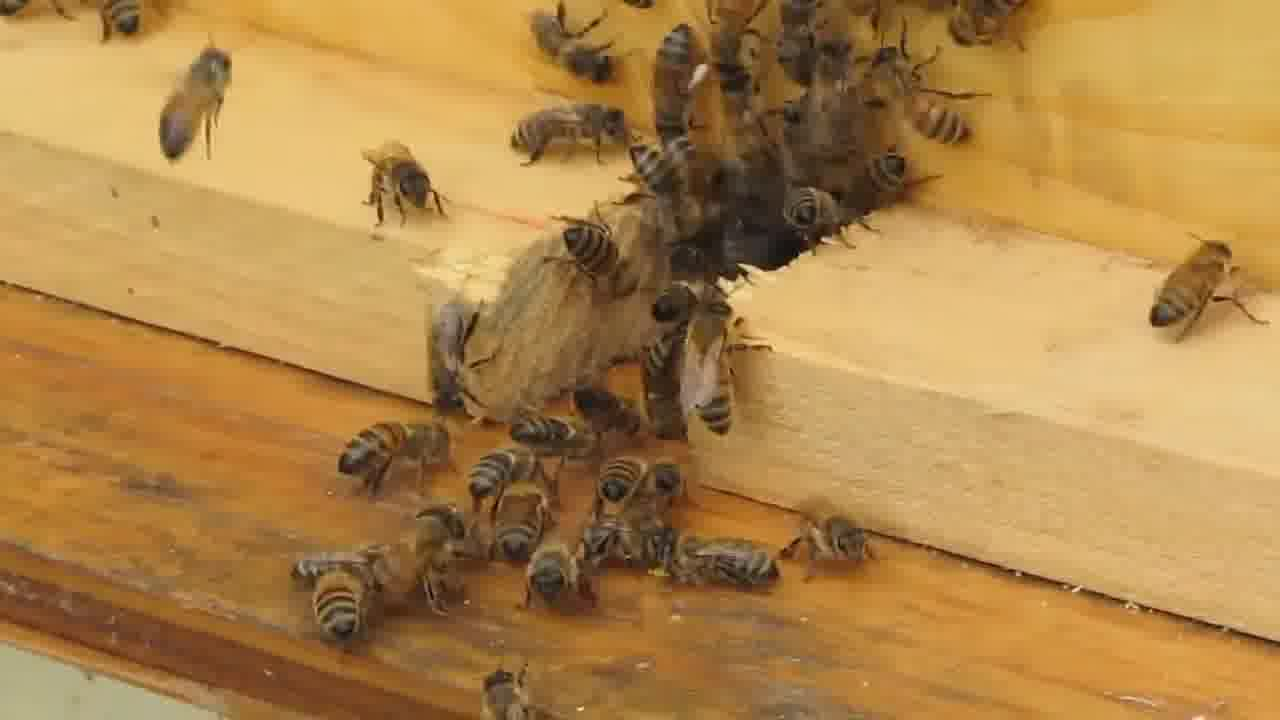pollen: (651, 27, 715, 141)
